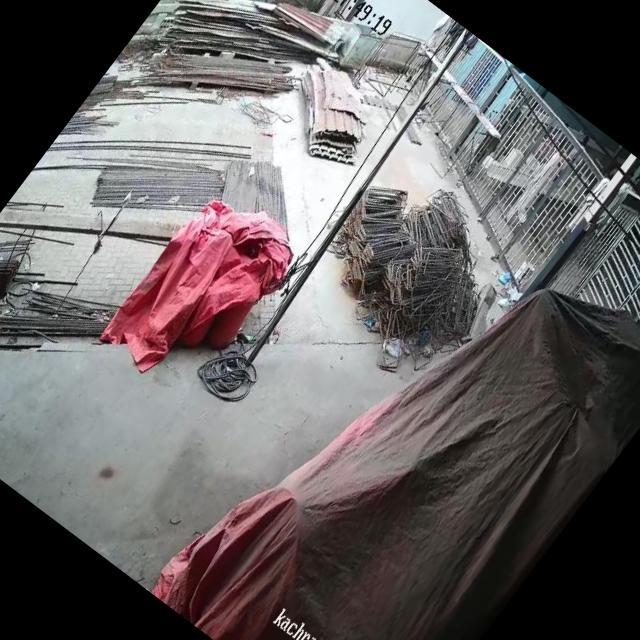person: (494, 137, 578, 235)
